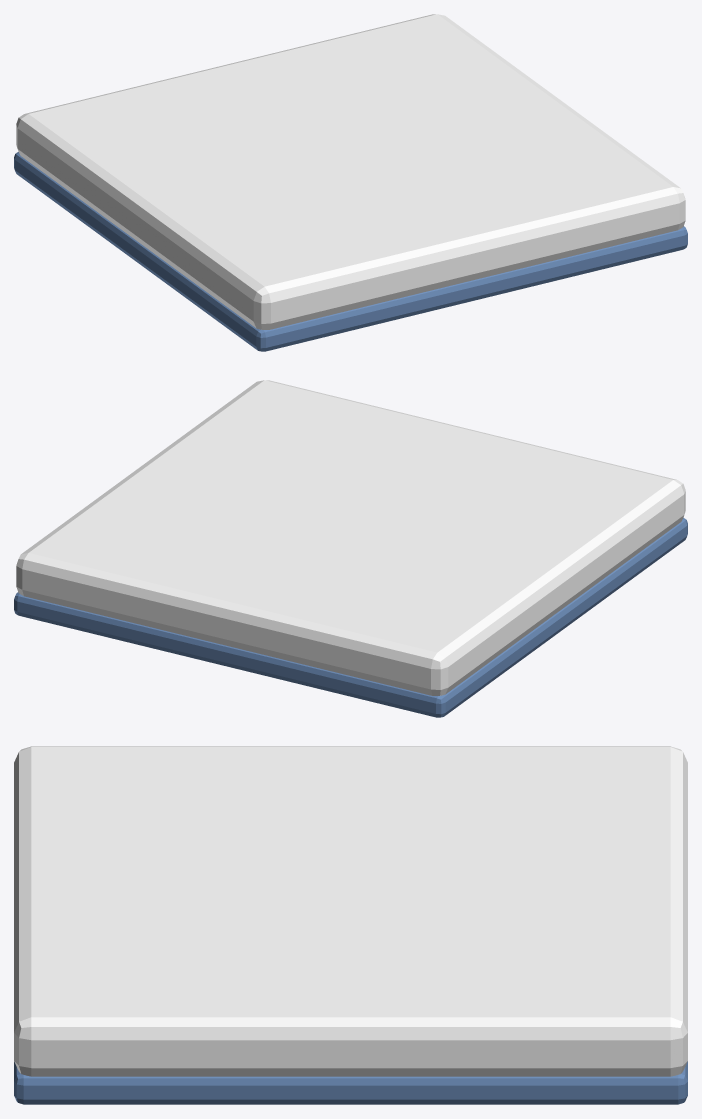
File: generic-flat.glb
3 views of the same model, one above another, from view 1: azimuth 30°, elevation 25°; view 2: azimuth 150°, elevation 25°; view 3: azimuth 270°, elevation 25° (orthographic). The views are drawn at different scales.
Parts seen in each view (by area): view 1: tile, base; view 2: tile, base; view 3: tile, base.
Boxes of the visible parts, box(x1,y1,x2,y2) form: tile: box(16, 14, 685, 329); base: box(14, 152, 687, 351); tile: box(16, 380, 685, 695); base: box(14, 518, 687, 717); tile: box(14, 746, 687, 1076); base: box(14, 1061, 687, 1104).
Size of the model in its own units: 1.75 by 0.24 by 1.75.
